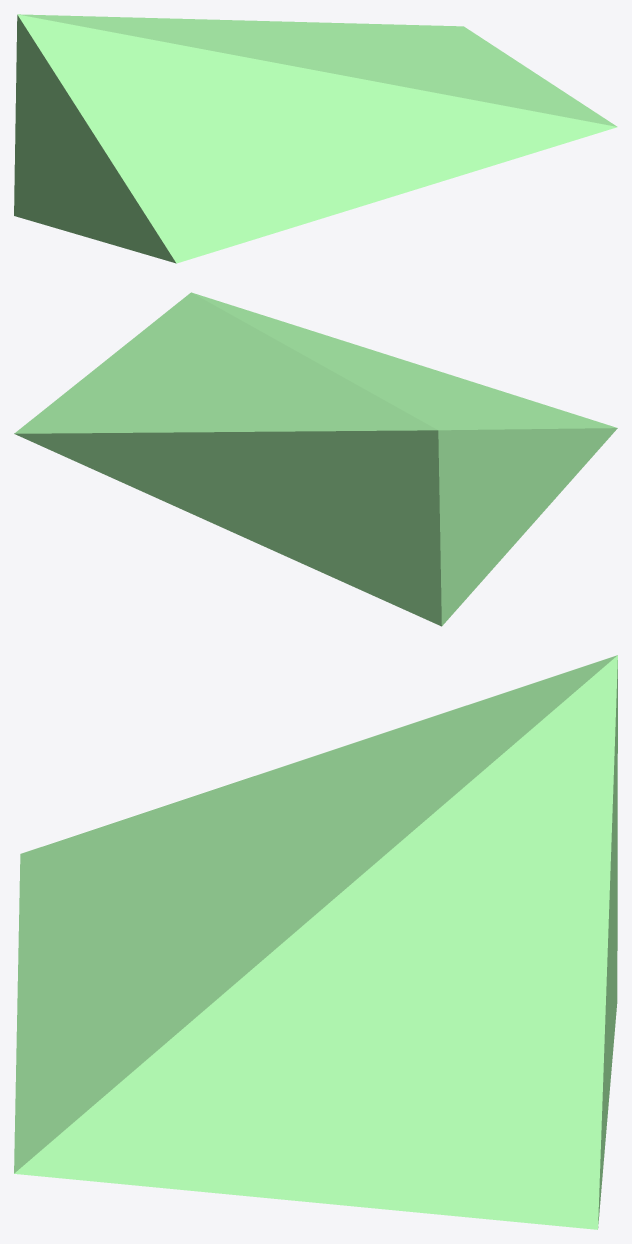
The model's file is linkhou_LR4_R560_link2_respondable_coll_18.dae.
3 views of the same model, one above another, from view 1: azimuth 30°, elevation 25°; view 2: azimuth 150°, elevation 25°; view 3: azimuth 270°, elevation 25° (orthographic). The views are drawn at different scales.
Parts seen in each view (by area): view 1: Node_00000209DB3AC2E0; view 2: Node_00000209DB3AC2E0; view 3: Node_00000209DB3AC2E0.
Boxes of the visible parts, bbox=[...] form: Node_00000209DB3AC2E0: bbox=[14, 14, 617, 263]; Node_00000209DB3AC2E0: bbox=[14, 292, 617, 626]; Node_00000209DB3AC2E0: bbox=[14, 655, 617, 1229].
Bounding box in the file's own units: 0.0225 × 0.00952 × 0.0149.
